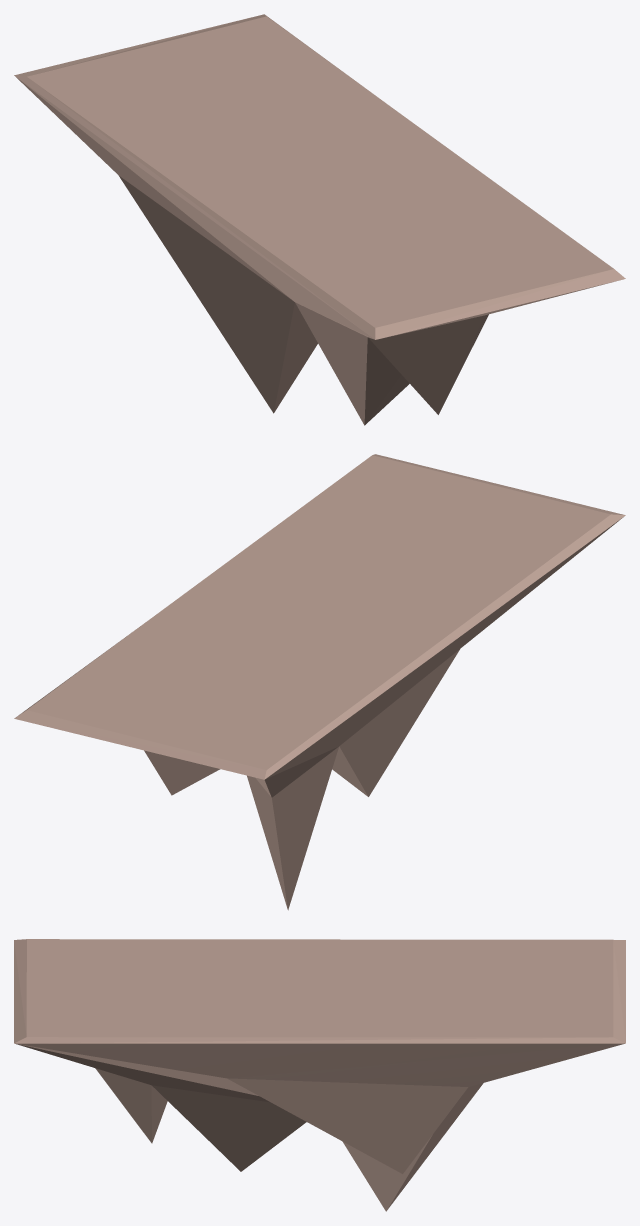
3 renders of one model, top to bottom at view 1: azimuth 30°, elevation 25°; view 2: azimuth 150°, elevation 25°; view 3: azimuth 270°, elevation 25°, orthographic. The views are drawn at different scales.
Parts seen in each view (by area): view 1: Land; view 2: Land; view 3: Land.
Part boxes in pixels (x1,y1,x2,y2): Land: (14, 14, 625, 425); Land: (14, 454, 625, 910); Land: (14, 939, 625, 1211).
Bounding box in the file's own units: 181 × 185 × 451.
